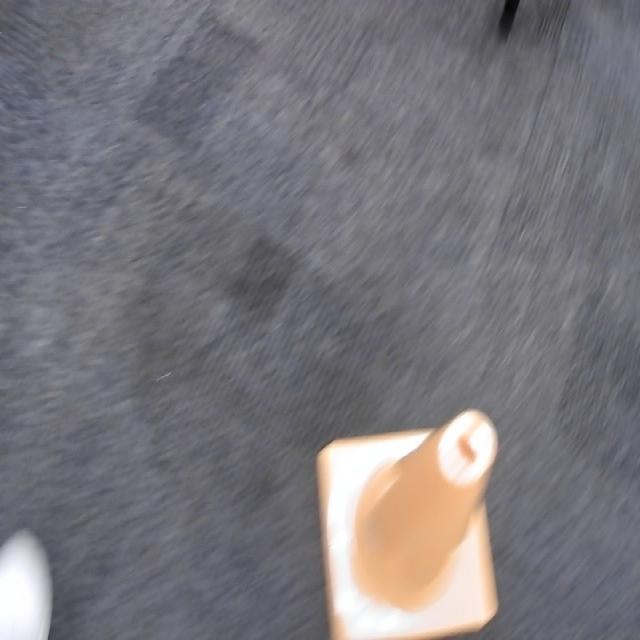cone: (315, 404, 500, 640)
